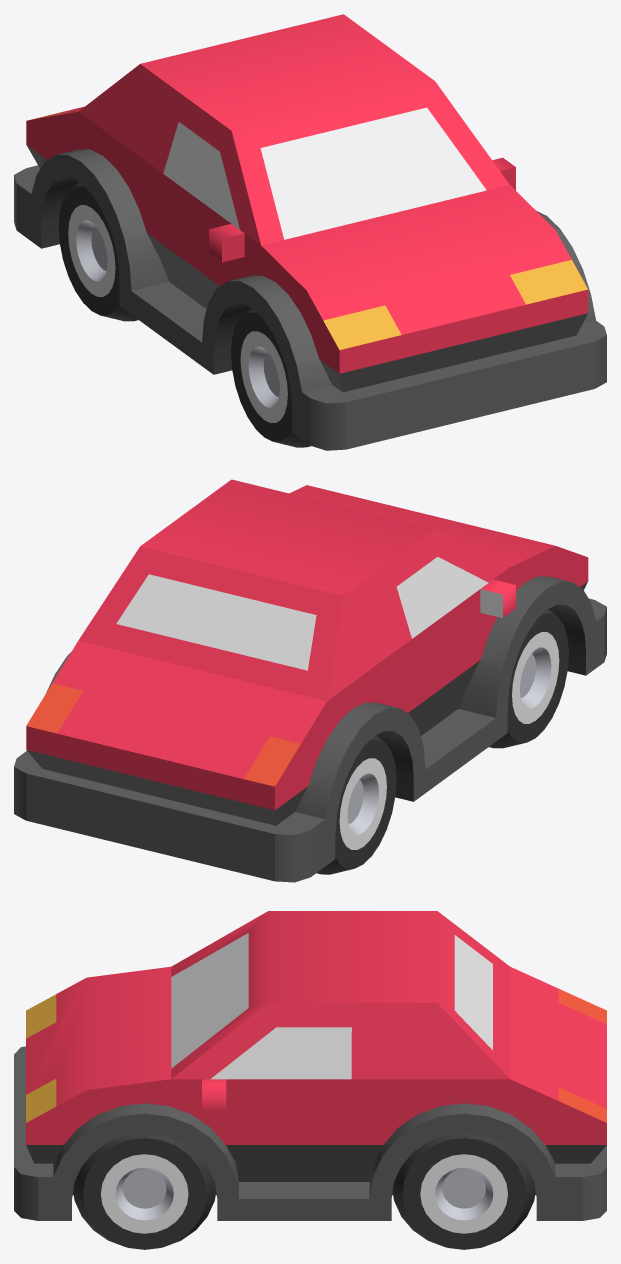
The model's file is sedanSports.obj.
3 views of the same model, one above another, from view 1: azimuth 30°, elevation 25°; view 2: azimuth 150°, elevation 25°; view 3: azimuth 270°, elevation 25° (orthographic). The views are drawn at different scales.
Parts seen in each view (by area): view 1: body, wheel_backRight, wheel_frontRight; view 2: body, wheel_frontRight, wheel_backRight; view 3: body, wheel_frontLeft, wheel_backLeft.
Part boxes in pixels (x1,y1,x2,y2): body: (14, 14, 606, 450); wheel_backRight: (58, 182, 138, 321); wheel_frontRight: (231, 308, 311, 447); body: (14, 479, 606, 882); wheel_frontRight: (489, 609, 568, 748); wheel_backRight: (316, 735, 396, 874); body: (14, 911, 606, 1220); wheel_frontLeft: (73, 1133, 215, 1249); wheel_backLeft: (392, 1133, 535, 1249).
Bounding box in the file's own units: 1.3 × 1.1 × 2.45.
